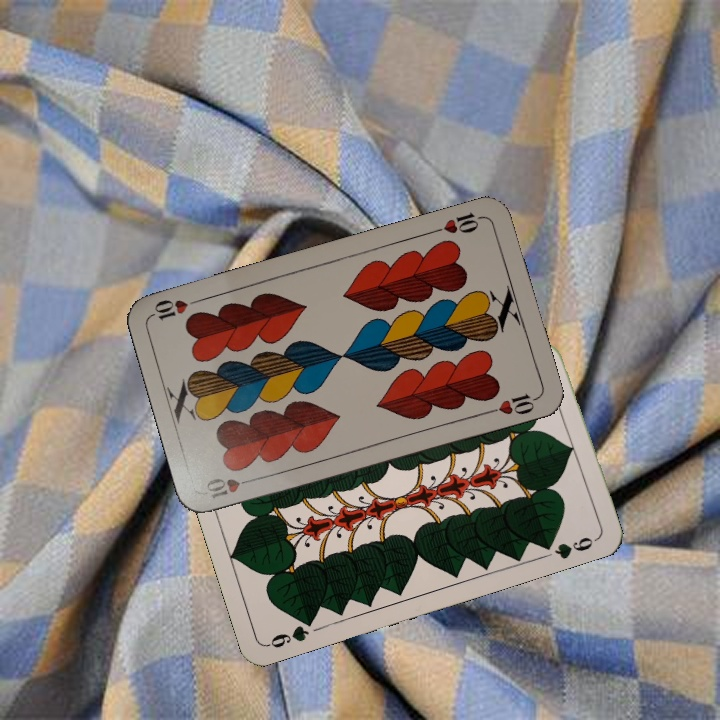G9: (264, 613, 318, 651)
H10: (202, 473, 260, 502), (428, 208, 486, 236)
